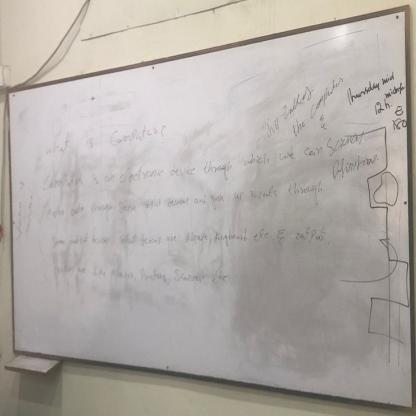Handwritten text: (36, 122, 378, 198), (40, 170, 331, 226), (49, 220, 328, 253), (50, 258, 230, 297), (40, 119, 164, 163)
Whiteboard: (6, 10, 414, 416)
